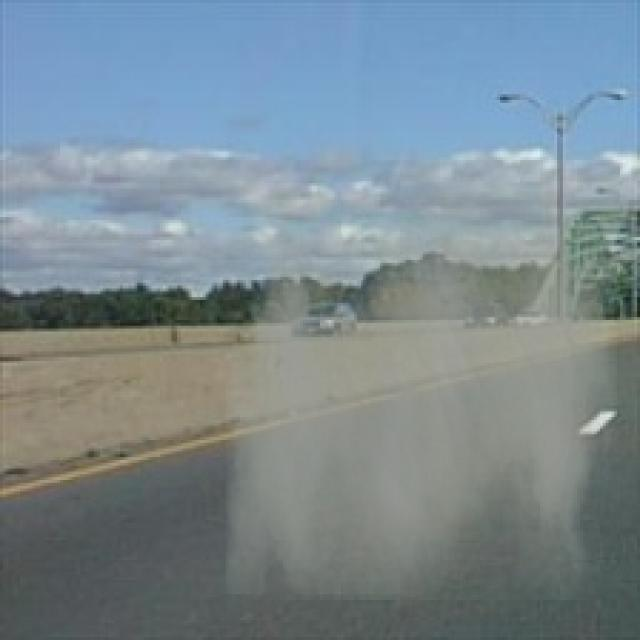smoke: (226, 191, 617, 600)
